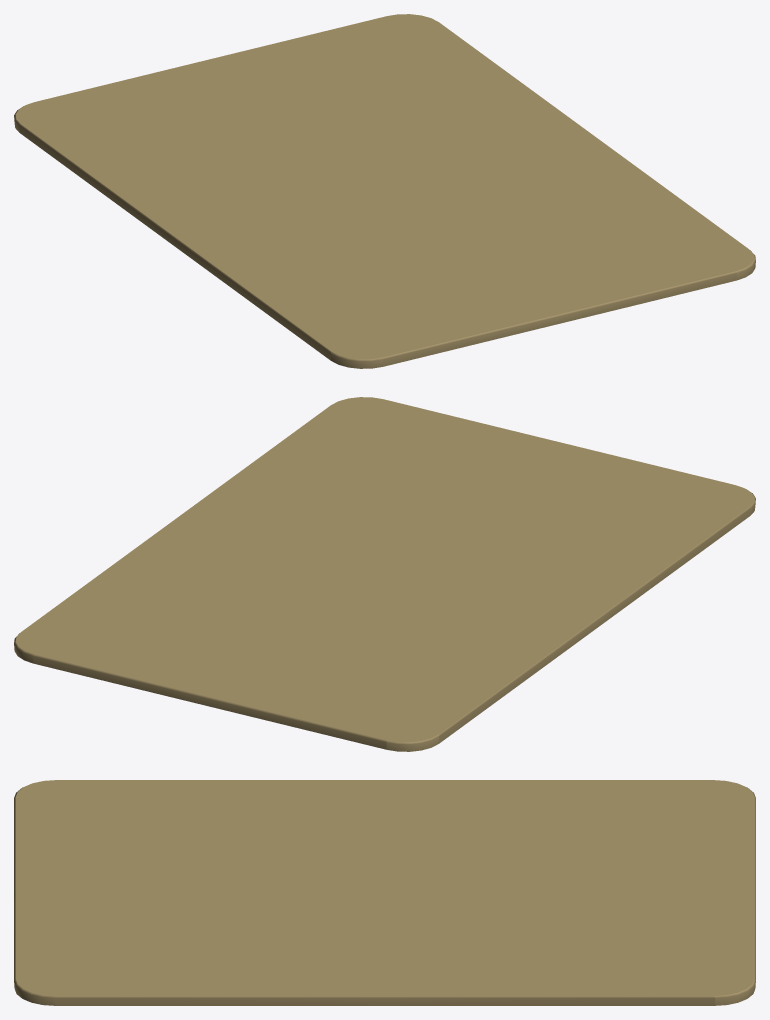
Rendered from G_Metal_06.fbx.
3 renders of one model, top to bottom at view 1: azimuth 30°, elevation 25°; view 2: azimuth 150°, elevation 25°; view 3: azimuth 270°, elevation 25°, orthographic. The views are drawn at different scales.
Parts seen in each view (by area): view 1: G_Metal_06; view 2: G_Metal_06; view 3: G_Metal_06.
Boxes of the visible parts, <box> form: G_Metal_06: <box>14,14,755,368</box>; G_Metal_06: <box>14,397,755,751</box>; G_Metal_06: <box>14,780,755,1005</box>.
Bounding box in the file's own units: 38.03 × 0.7736 × 54.93.
